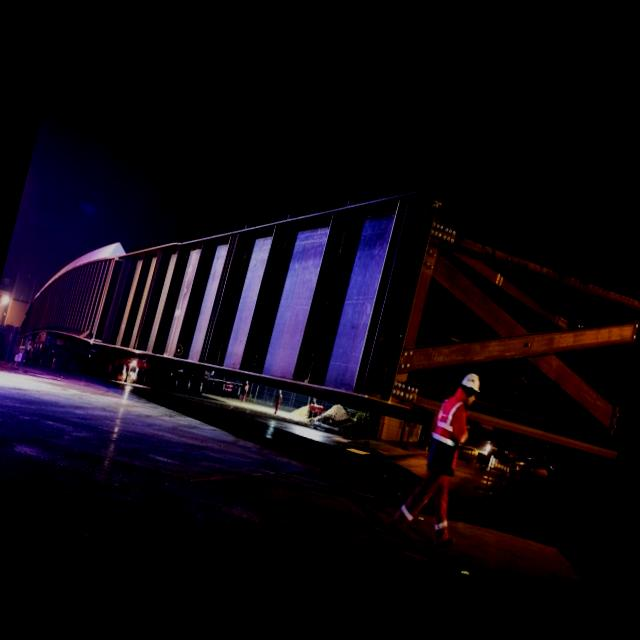helmet: (460, 370, 482, 396)
vest: (432, 384, 471, 446)
